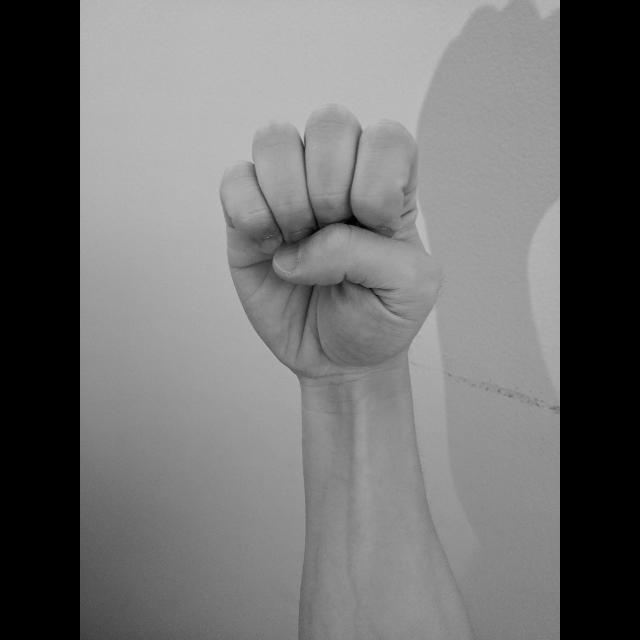E: (213, 97, 447, 385)
